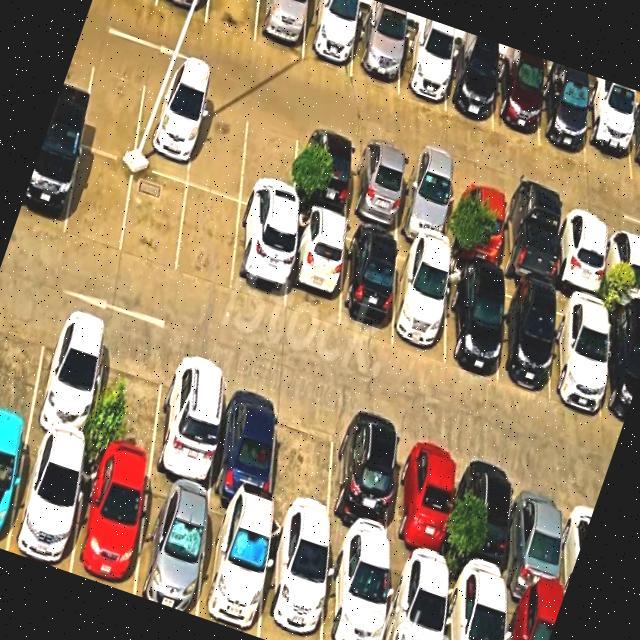empty: (89, 328, 167, 473), (270, 391, 336, 534), (80, 51, 146, 162), (64, 147, 133, 253), (120, 166, 187, 275), (0, 290, 50, 427), (175, 185, 239, 292), (239, 106, 299, 220), (187, 90, 248, 200), (205, 0, 258, 42)
occupied: (28, 306, 107, 450), (7, 432, 85, 572), (151, 349, 226, 493), (71, 454, 147, 594), (133, 475, 208, 616), (196, 496, 270, 637), (210, 369, 281, 510), (330, 409, 398, 554), (389, 428, 453, 574), (456, 450, 515, 592), (259, 517, 327, 640), (133, 70, 201, 183), (508, 467, 562, 609), (285, 209, 345, 327), (16, 129, 81, 235), (338, 226, 396, 342), (550, 292, 604, 415), (323, 539, 388, 640), (392, 243, 446, 363), (230, 205, 290, 310), (445, 263, 496, 382), (498, 279, 550, 394), (294, 124, 352, 220), (501, 191, 553, 290), (384, 556, 445, 640), (348, 141, 401, 235), (450, 174, 500, 270), (398, 156, 449, 250), (492, 56, 542, 145), (538, 71, 585, 163), (584, 88, 631, 180), (604, 308, 640, 428), (302, 0, 357, 77), (445, 44, 495, 128), (559, 208, 602, 301), (398, 27, 446, 110), (351, 12, 400, 91), (445, 575, 504, 640), (0, 423, 28, 550), (254, 0, 307, 60), (605, 223, 640, 313), (504, 593, 559, 640), (156, 0, 208, 23), (627, 102, 640, 183)
